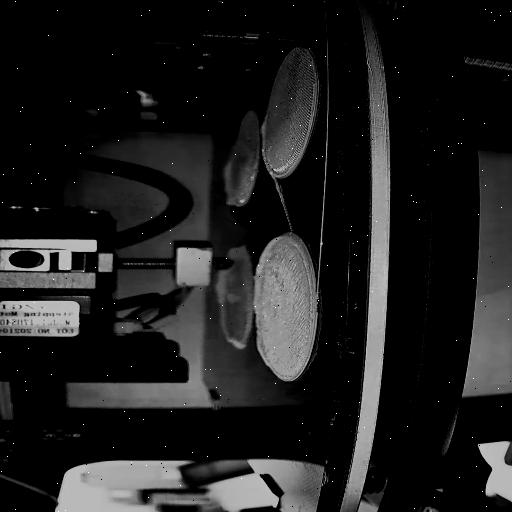over_extrusion: (254, 234, 310, 288), (222, 162, 244, 208), (252, 331, 272, 367), (213, 270, 229, 306), (226, 244, 254, 257), (256, 114, 270, 136)
